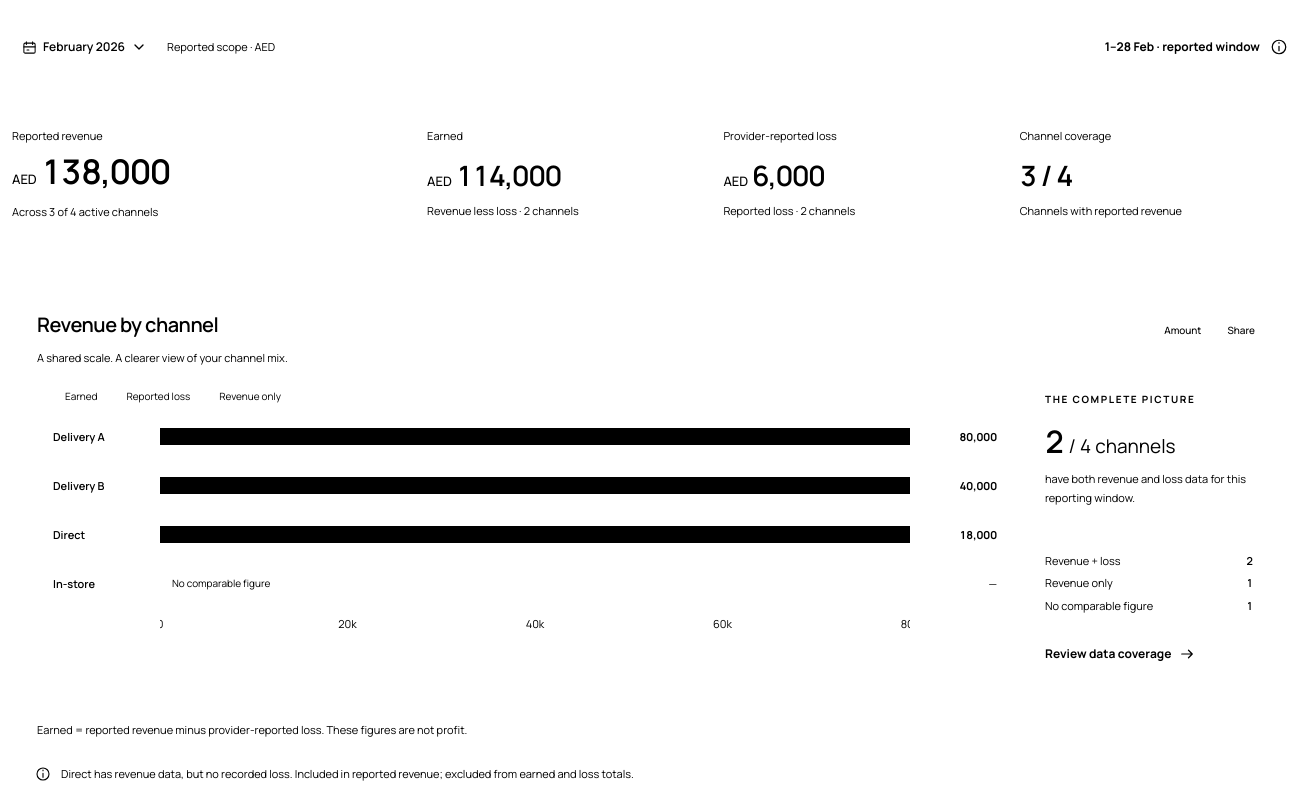
Test: ChannelsRollup › shows one reporting-period selector with every declared window value
Press the mouse on the dropdown named "Reporting period" at (84, 47), box [12,28,157,66]
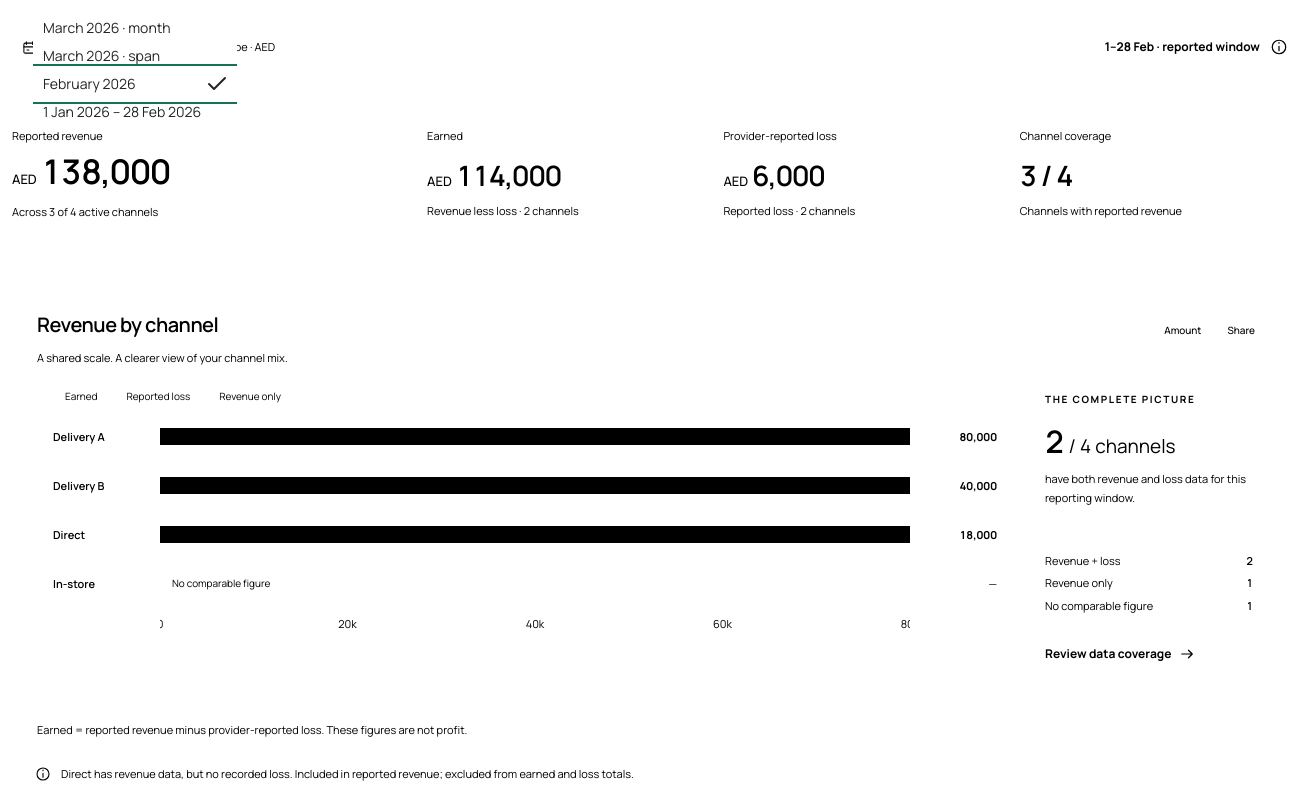
Result: the options read "March 2026 · month", "March 2026 · span", "February 2026", "1 Jan 2026 – 28 Feb 2026", in this order at [43,18,171,37]; [43,46,160,65]; [37,70,233,98]; [43,102,201,121]
